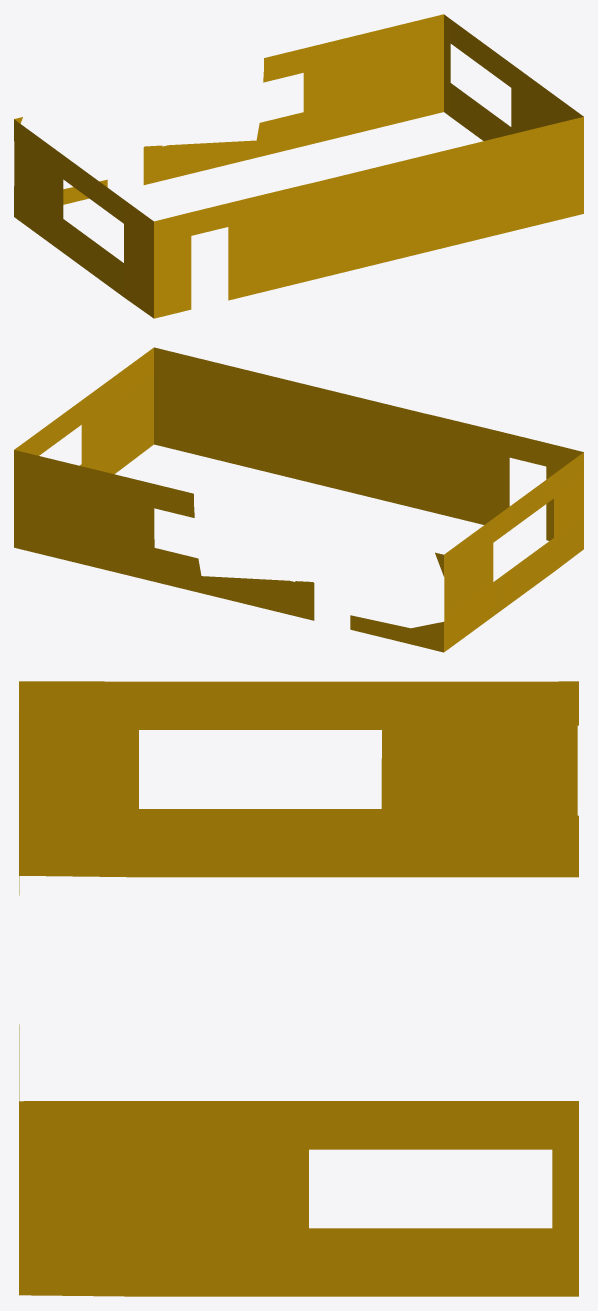
Rendered from BH07B_WP_02_Break.fbx.
3 views of the same model, one above another, from view 1: azimuth 30°, elevation 25°; view 2: azimuth 150°, elevation 25°; view 3: azimuth 270°, elevation 25° (orthographic). The views are drawn at different scales.
Visible parts, largest first — view 1: BH07B_WP_02_Break; view 2: BH07B_WP_02_Break; view 3: BH07B_WP_02_Break.
Boxes of the visible parts, x1,y1,x2,y2 form: BH07B_WP_02_Break: (14,14,583,318); BH07B_WP_02_Break: (14,347,583,652); BH07B_WP_02_Break: (19,681,578,1296).
Size of the model in its own units: 1380 by 301 by 778.
